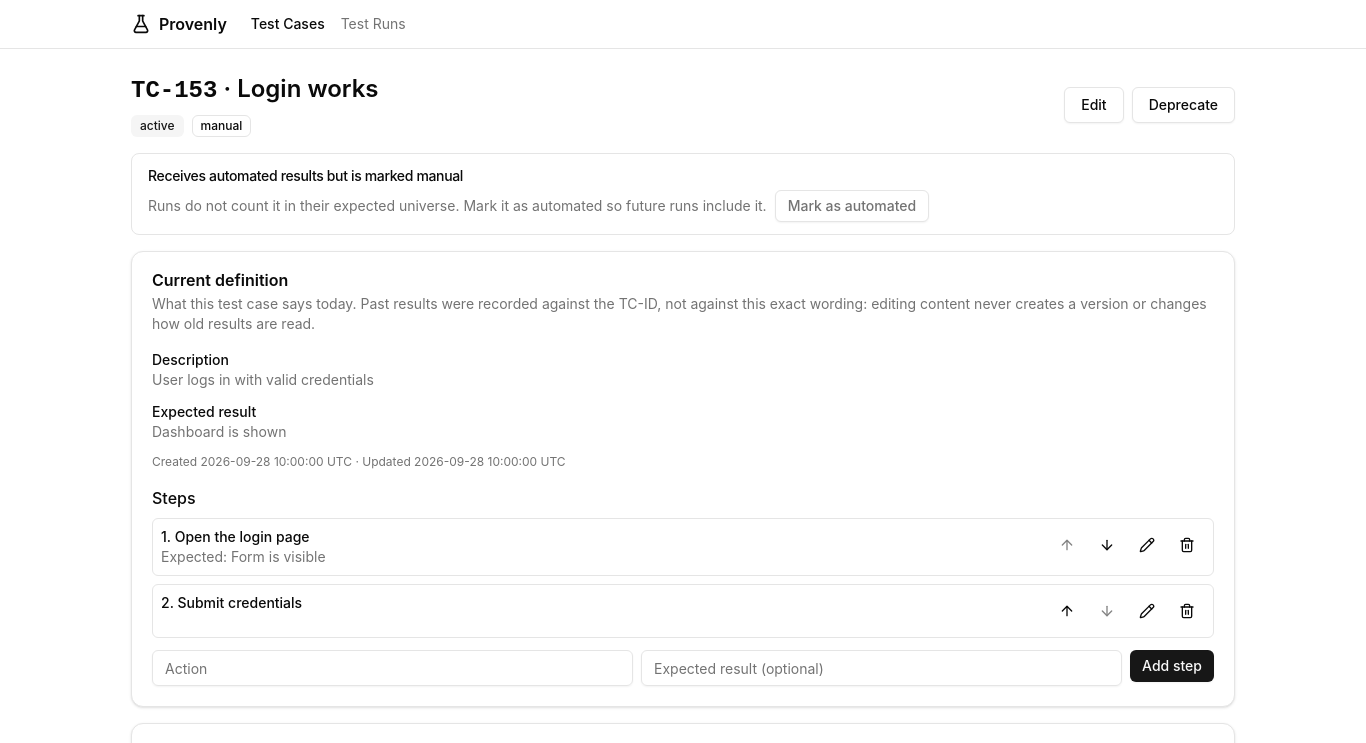
Scenario: FE-INT-014 manual test case receiving automated results › FE-INT-014 warns and marks the test case automated
Expected: the message with test id "manual-with-results" shows "Receives automated results but is marked manual", [148,167,463,184]
Click the button "Mark as automated".
click(852, 206)  # box [775,190,929,222]
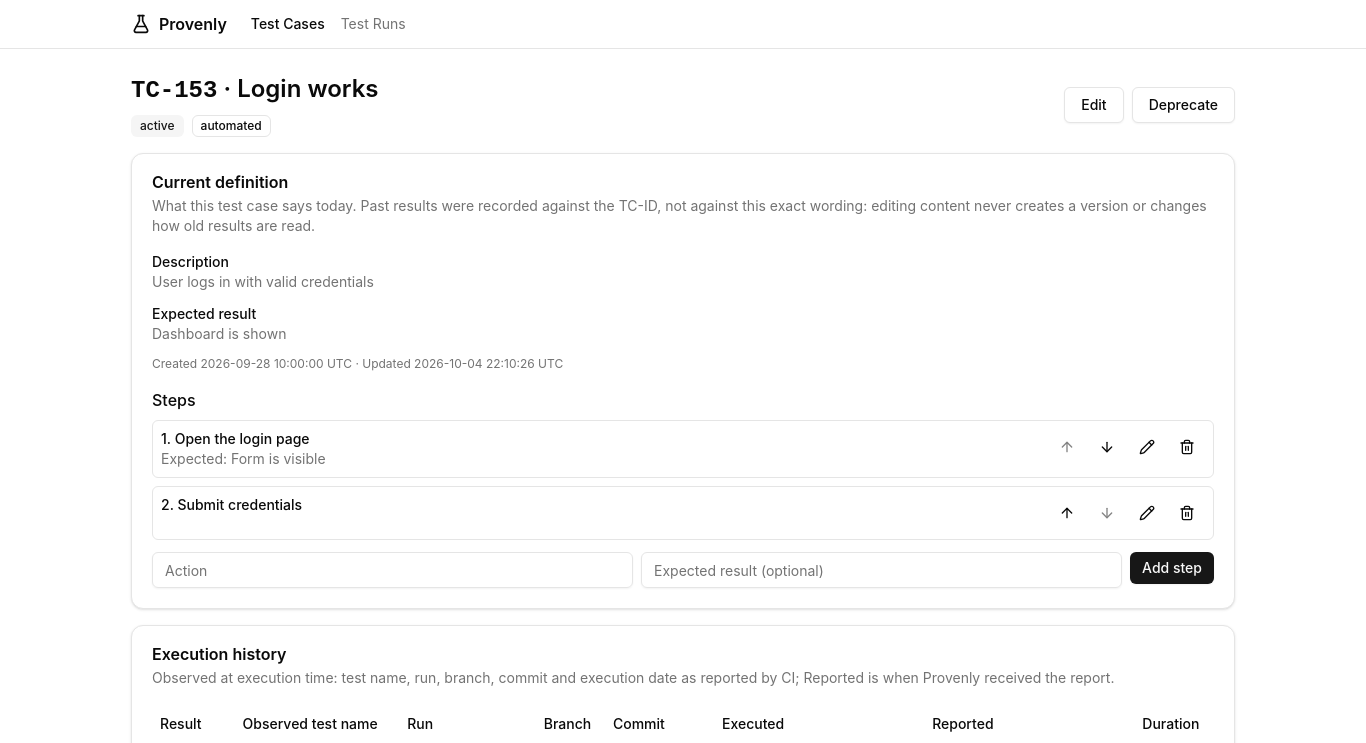
Expected: the message with test id "manual-with-results" is gone
